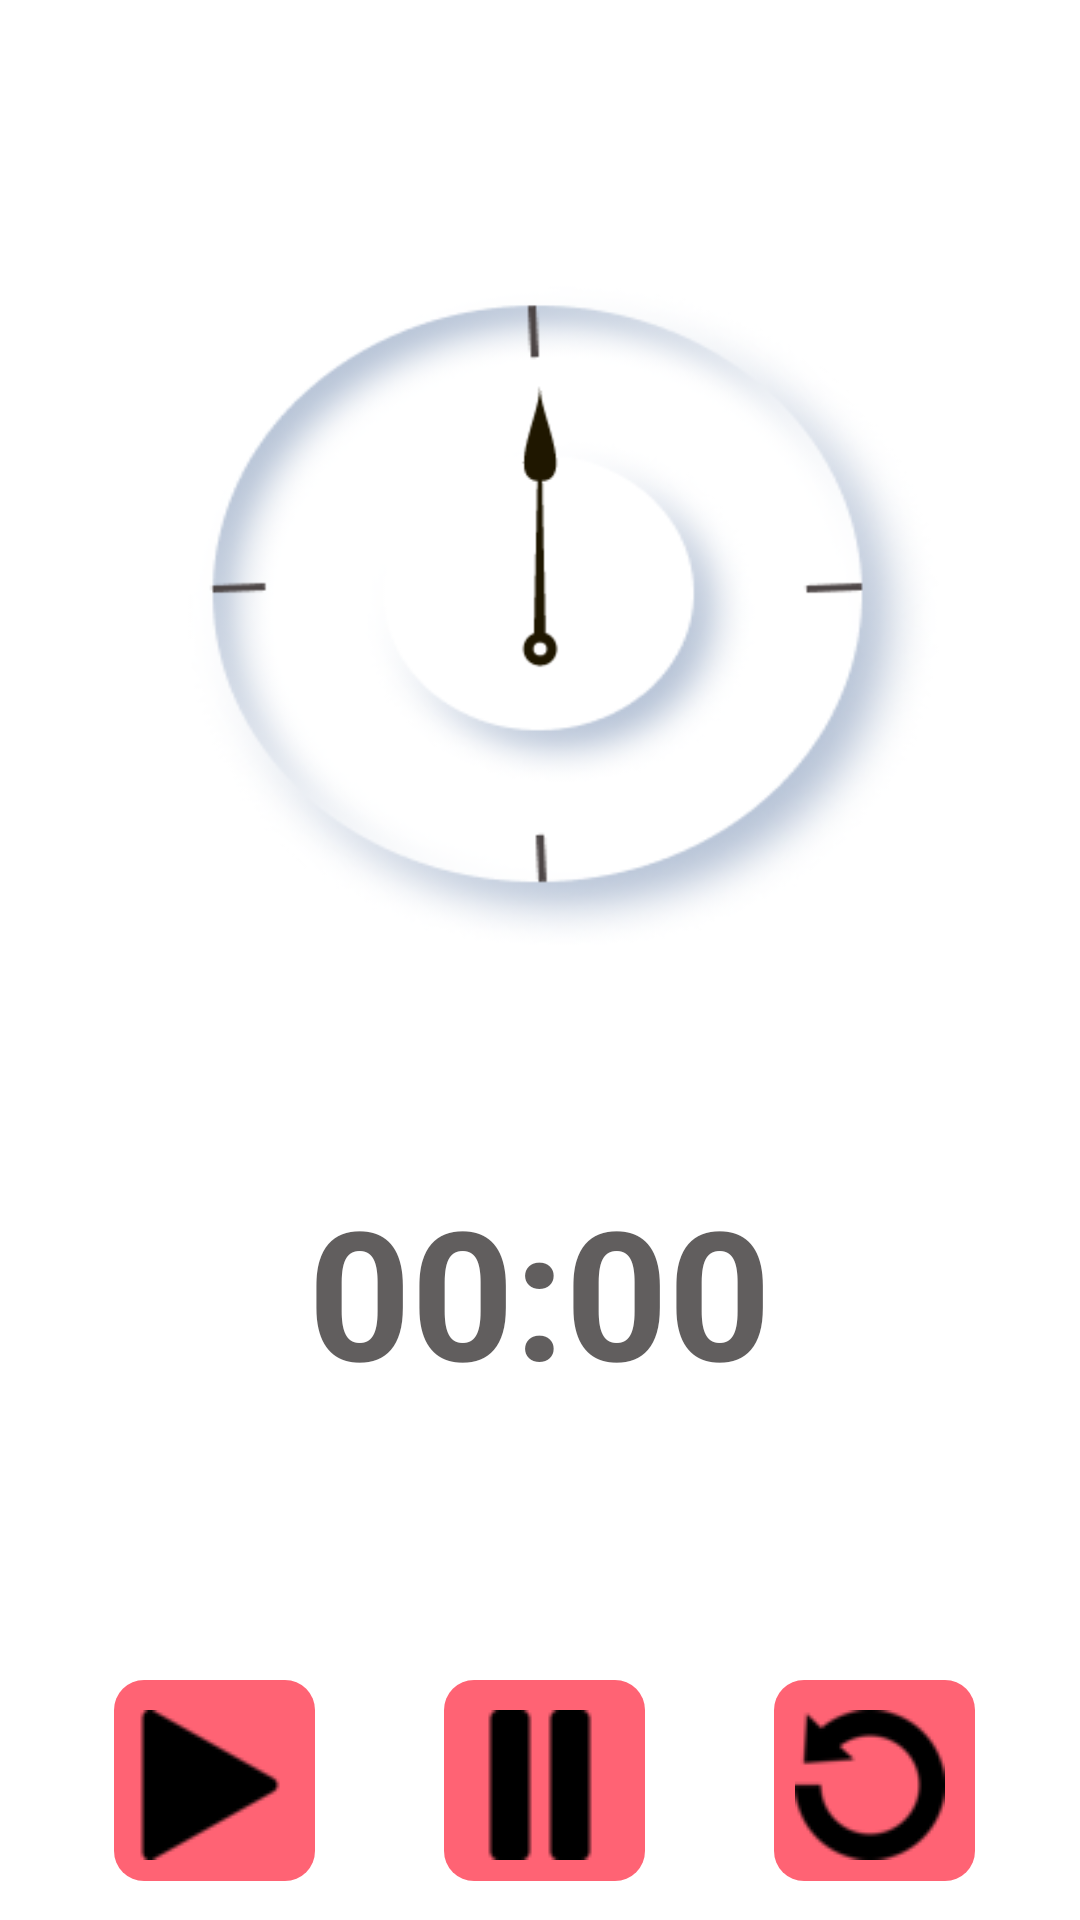

Screen size 1080×1920. Icon name, then its box in pixels as [left=x1, top=y1, right=x2, bottom=y2]:
pause: [left=444, top=1680, right=645, bottom=1881]
play: [left=114, top=1680, right=315, bottom=1881]
restart: [left=774, top=1680, right=975, bottom=1881]
